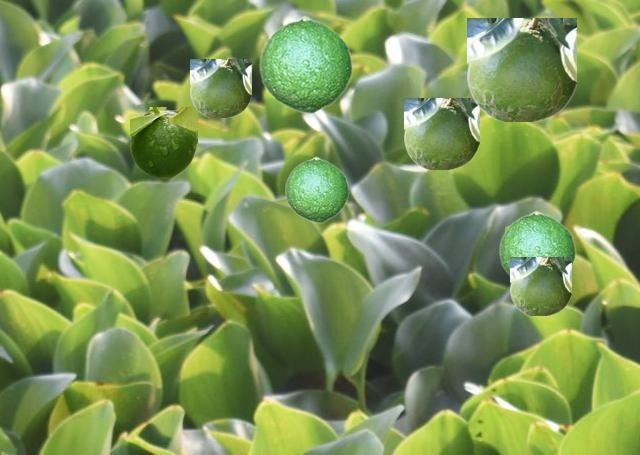dalandan: (467, 18, 575, 120), (258, 15, 352, 113), (404, 98, 478, 168), (498, 210, 575, 276), (130, 107, 196, 177), (284, 156, 348, 222), (190, 59, 250, 116), (510, 257, 570, 314)
